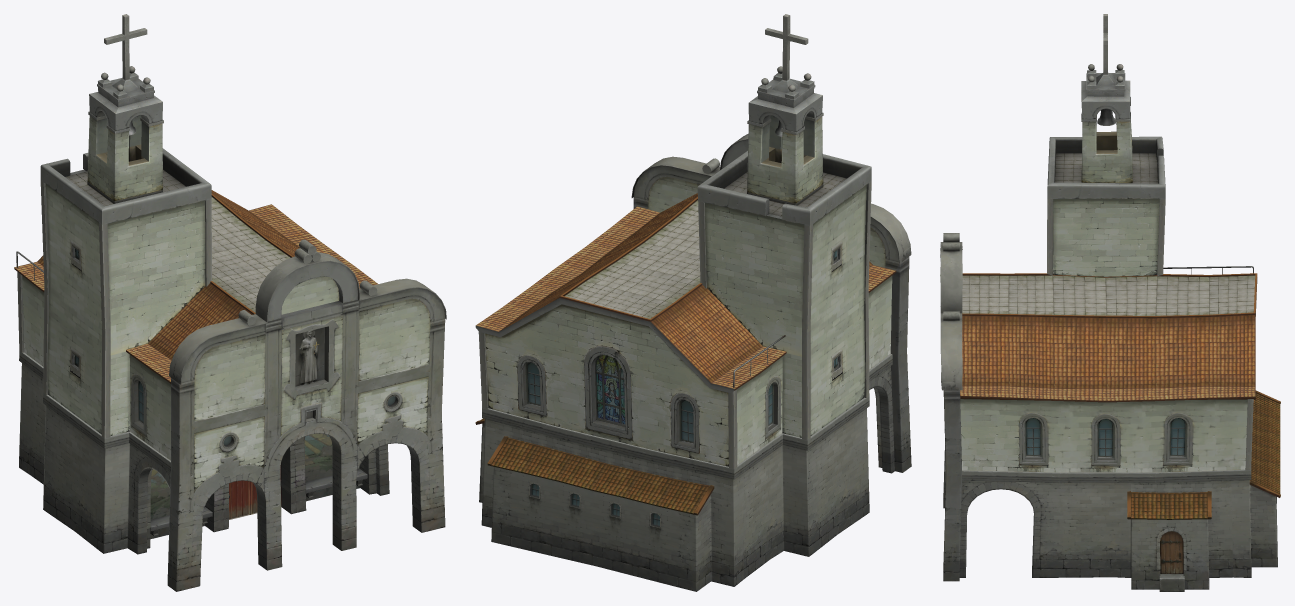
Rendered from church.fbx.
3 views of the same model, side by side, from view 1: azimuth 30°, elevation 25°; view 2: azimuth 150°, elevation 25°; view 3: azimuth 270°, elevation 25° (orthographic). The views are drawn at different scales.
Parts seen in each view (by area): view 1: GEOM0_LOD0; view 2: GEOM0_LOD0; view 3: GEOM0_LOD0.
Boxes of the visible parts, x1=… form: GEOM0_LOD0: x1=14, y1=14, x2=446, y2=591; GEOM0_LOD0: x1=475, y1=14, x2=911, y2=591; GEOM0_LOD0: x1=940, y1=14, x2=1280, y2=591.
Size of what is drawn, in the model's own units: 1682 by 2618 by 1747.
